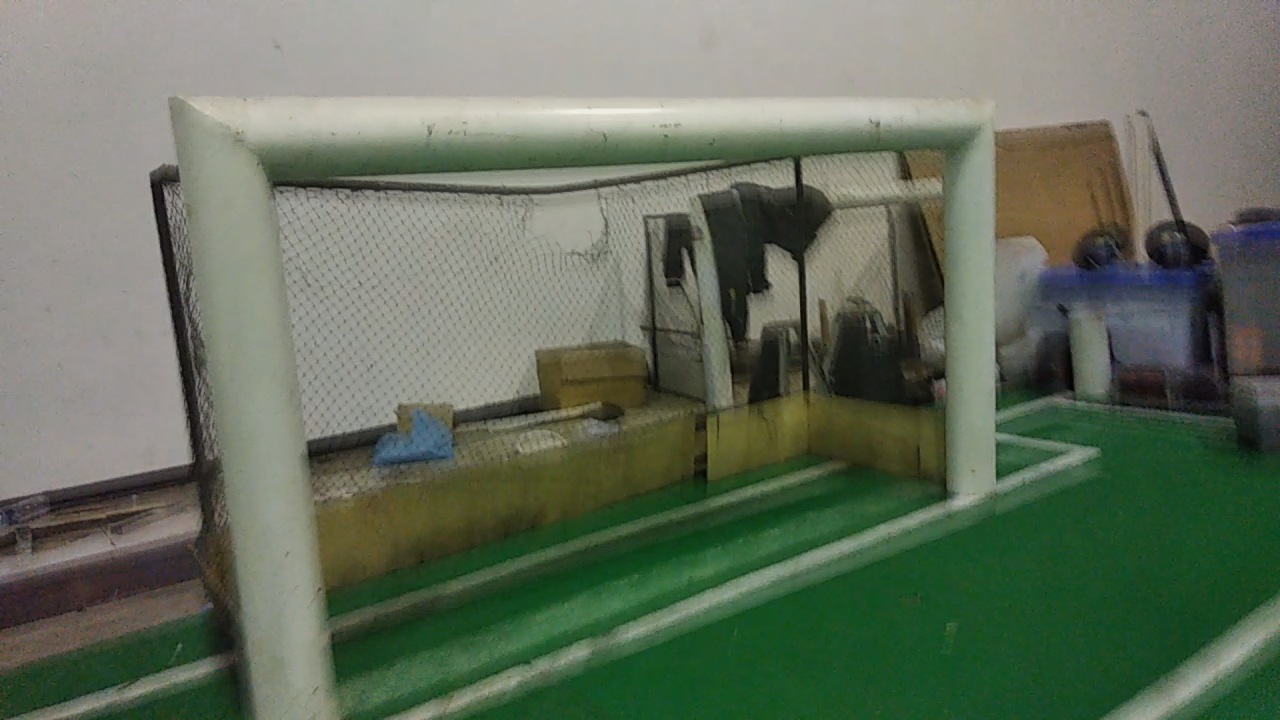gawang: (153, 83, 1013, 716)
